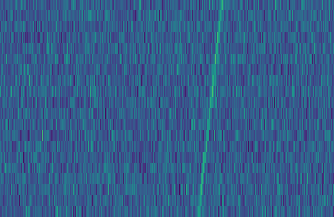signal: (194, 0, 228, 217)
